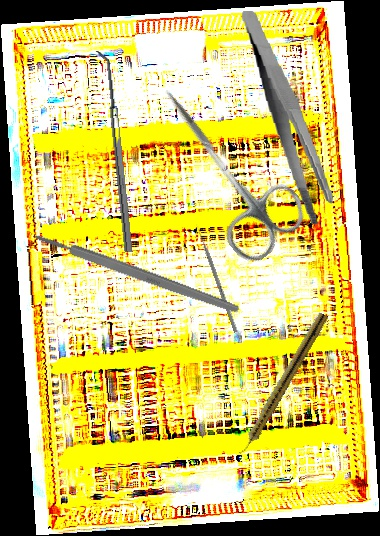Dressing Forceps: (239, 5, 337, 229)
Handpiece: (235, 310, 329, 458)
Iris Scissors: (130, 66, 316, 270)
Pusher: (194, 223, 239, 333)
Scalpel Handle: (32, 230, 242, 316)
Spatula Surgical: (95, 49, 133, 254)
